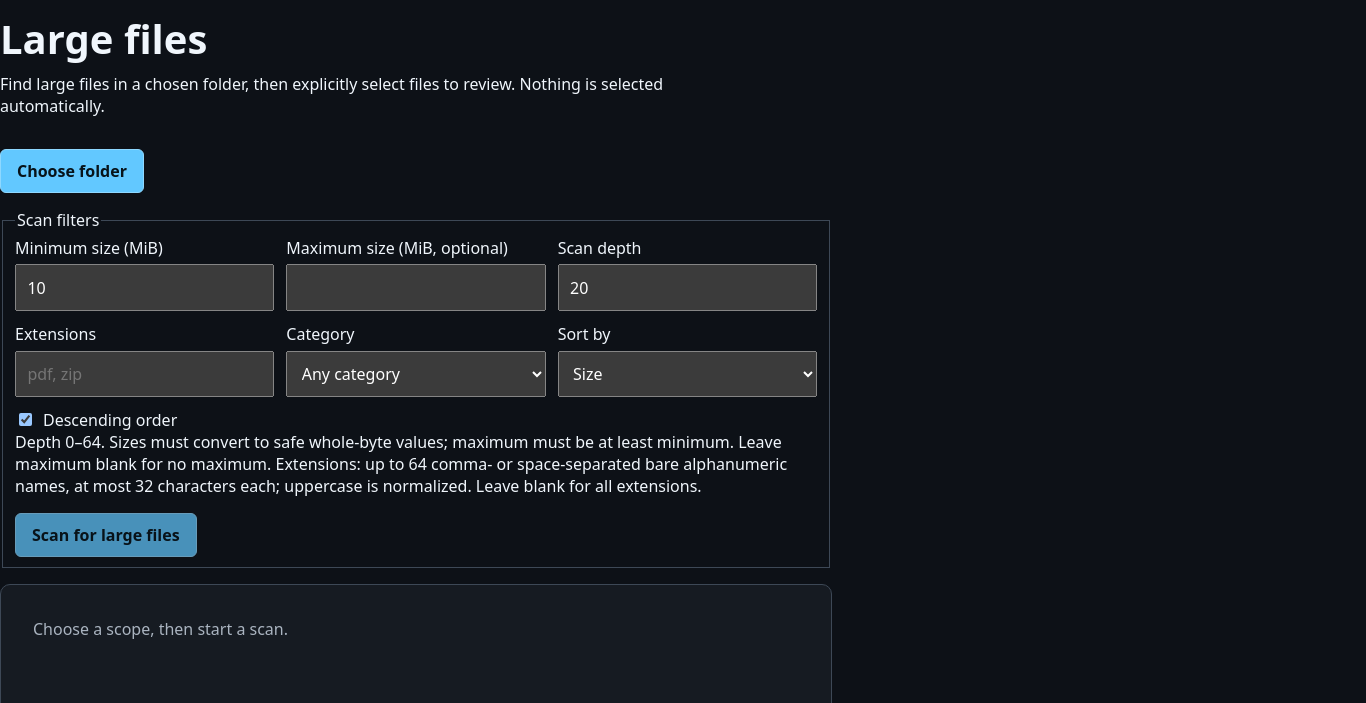
Scenario: offers permanent review with a separate native confirmation, never auto-execution
Click the button "Choose folder" at x=72, y=171, box x1=0 y1=149 x2=144 y2=193
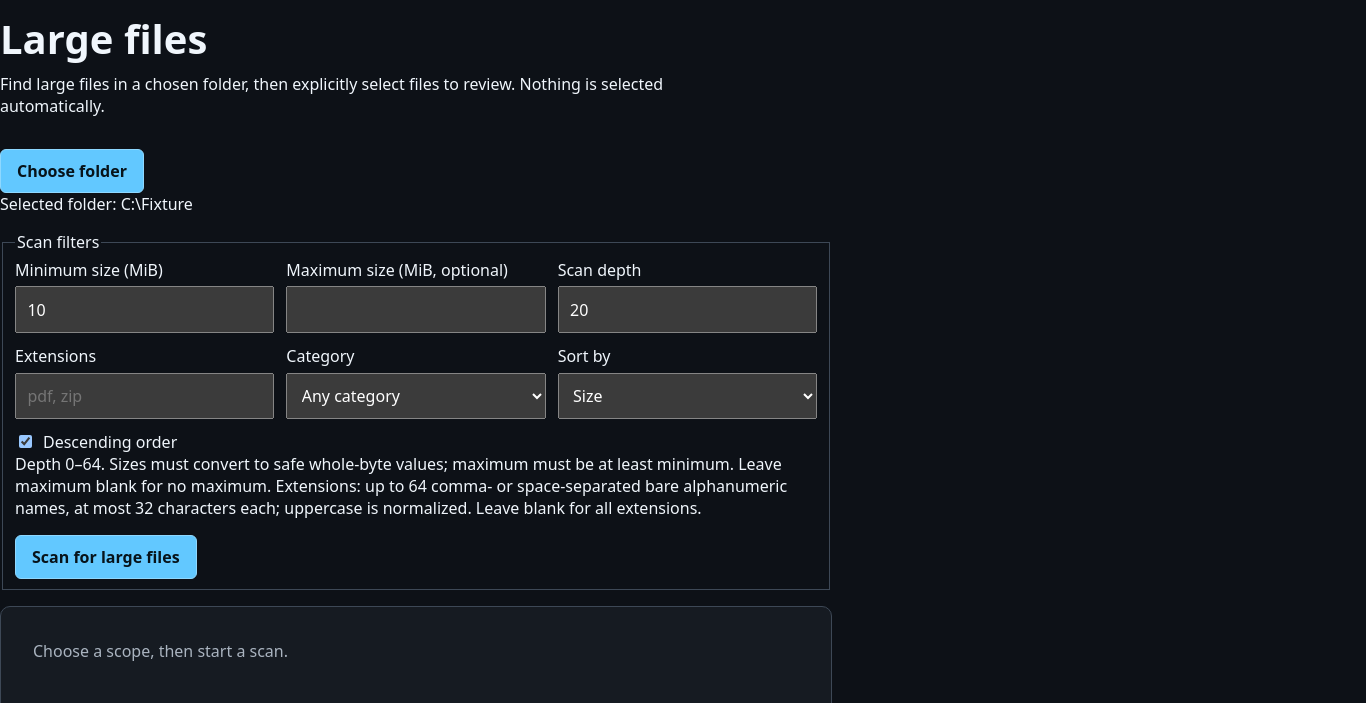
Result: the button "Scan for large files" is enabled
Click the button "Scan for large files" at x=106, y=557, box x1=15 y1=535 x2=197 y2=579
(page scrolled)
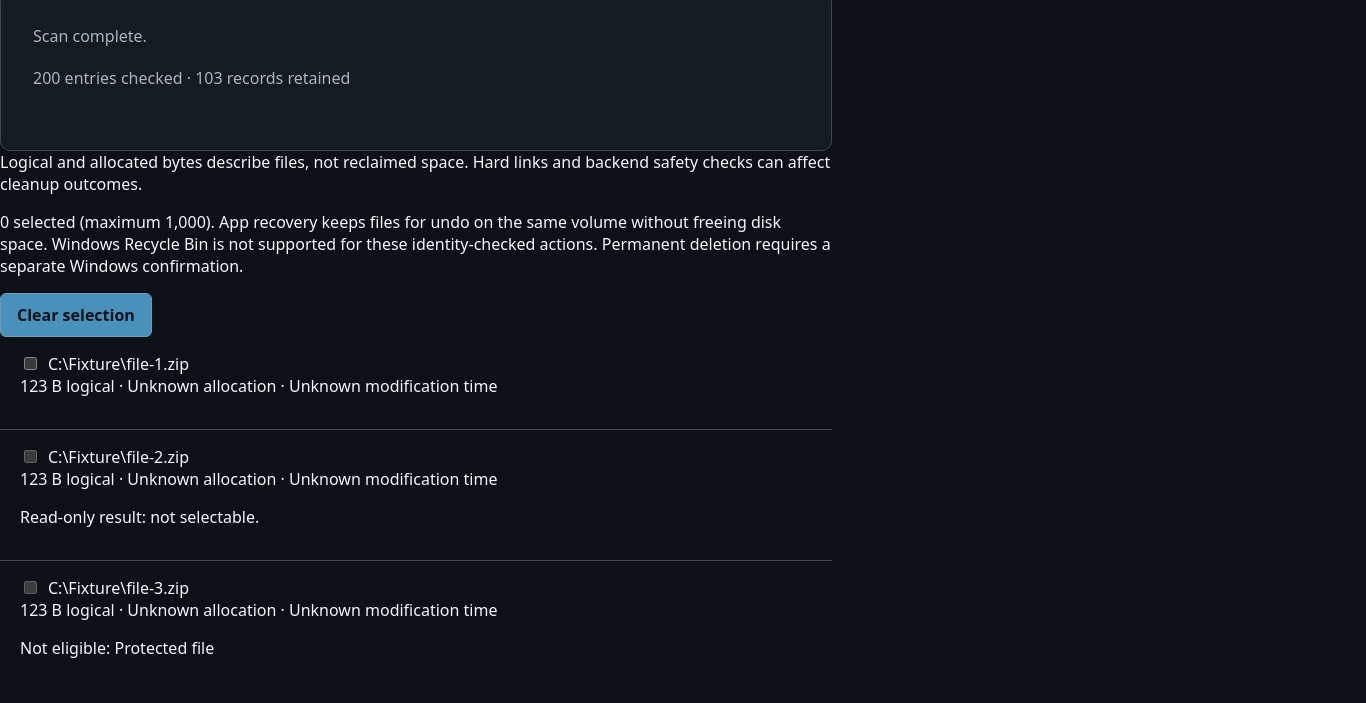
Result: the list named "Large file results" is shown at x1=0 y1=337 x2=832 y2=691
Click the checkbox labelled "C:\\Fixture\\file-1.zip" at x=30, y=364, box x1=24 y1=357 x2=37 y2=370
(page scrolled)
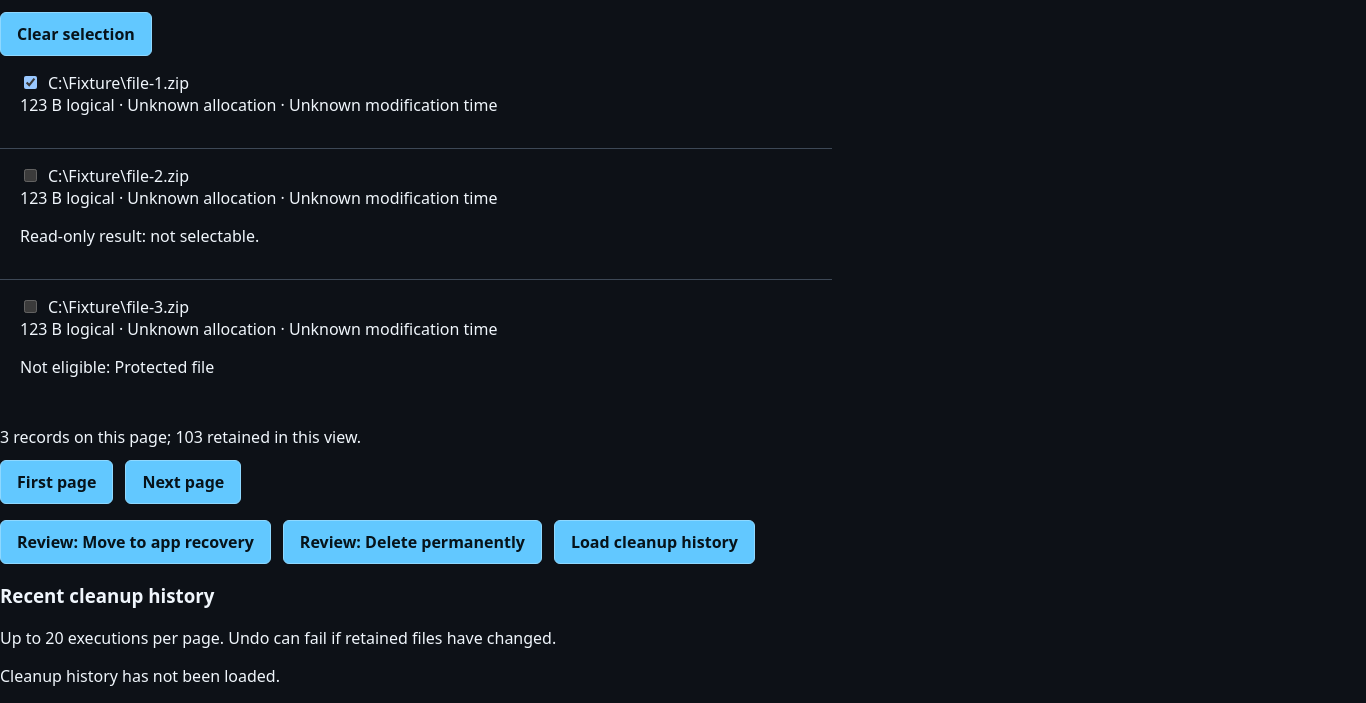
Click the button "Review: Delete permanently" at x=412, y=542, box x1=283 y1=520 x2=542 y2=564
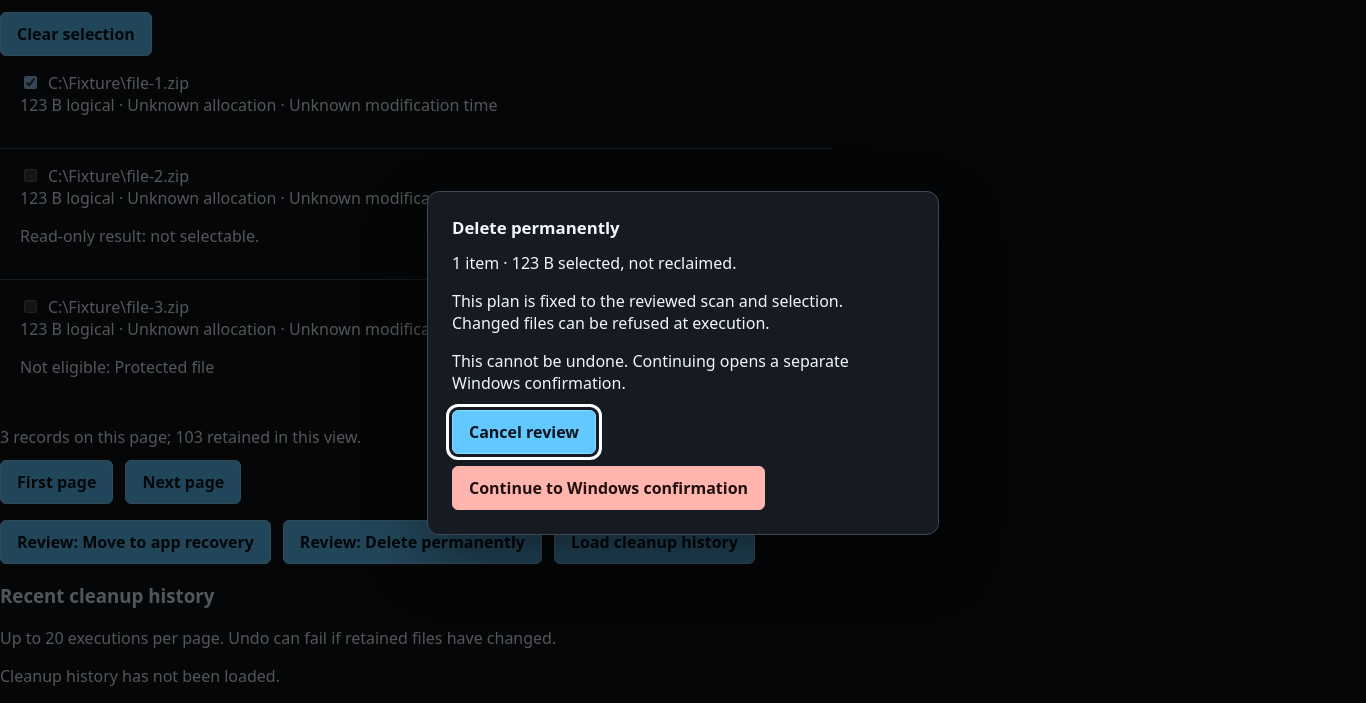
Result: the dialog is shown at x1=427 y1=190 x2=939 y2=535
Result: the button "Continue to Windows confirmation" is shown at x1=452 y1=466 x2=765 y2=510
